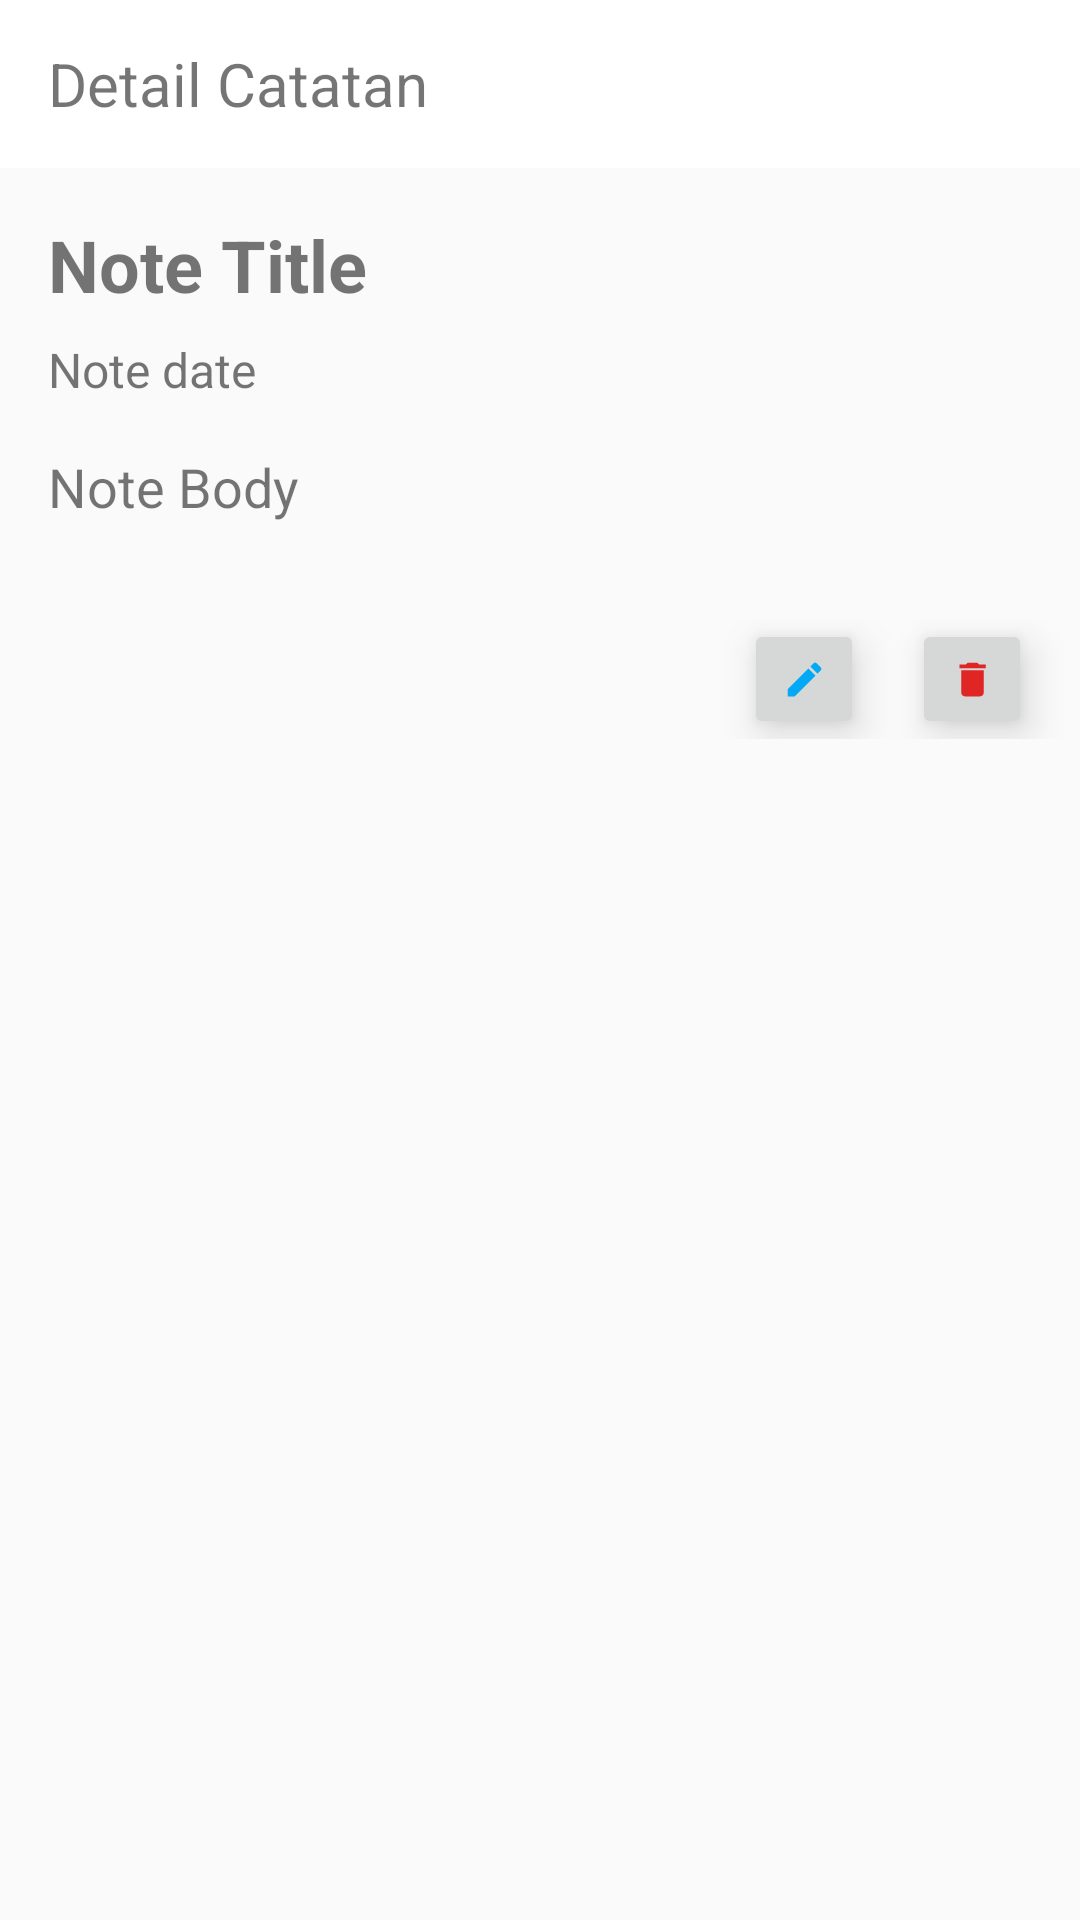

Icon bounding boxes for this 1080px×1920px phone screenshot, format [x1, y1, x2, y2]:
delete: [924, 637, 1021, 724]
edit: [756, 637, 852, 723]
